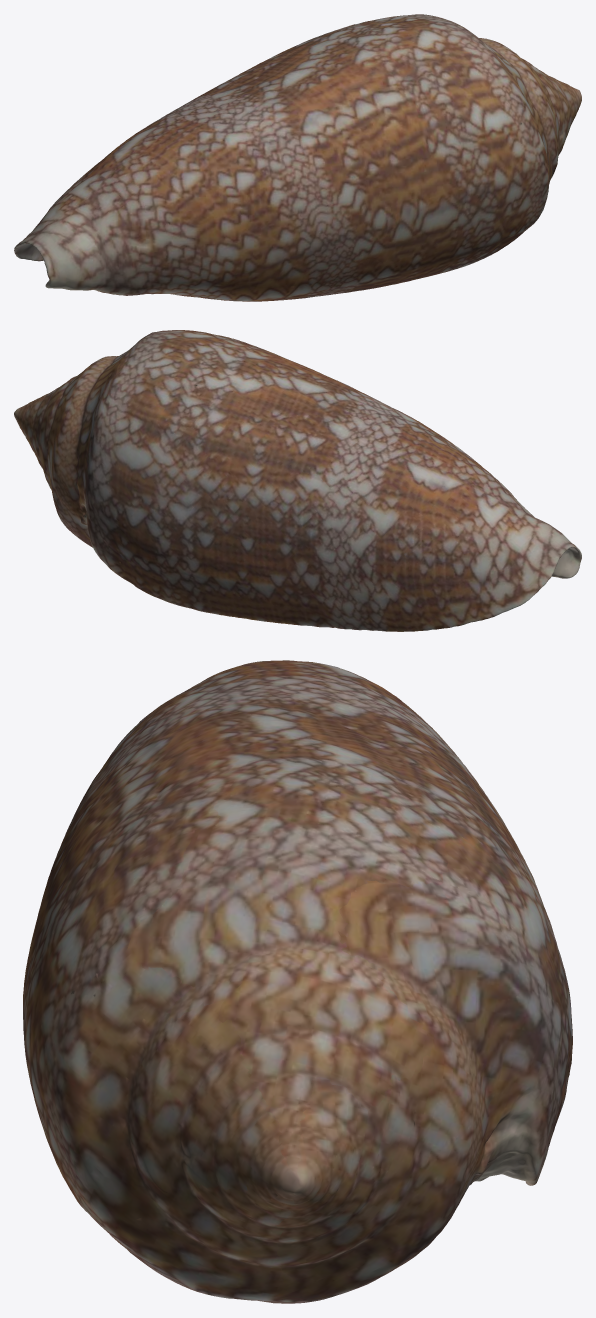
The picture shows the model from 3 angles, top to bottom: view 1: azimuth 30°, elevation 25°; view 2: azimuth 150°, elevation 25°; view 3: azimuth 270°, elevation 25°; orthographic projection. The views are drawn at different scales.
Visible parts, largest first — view 1: orientacao; view 2: orientacao; view 3: orientacao.
Part boxes in pixels (x1,y1,x2,y2): orientacao: [14, 14, 581, 301]; orientacao: [14, 330, 581, 631]; orientacao: [23, 660, 572, 1303].
Bounding box in the file's own units: 4915 × 1966 × 2145.
Materials: 1 (1 with a texture image).
